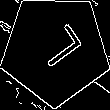L_SW: (27, 22, 83, 77)
